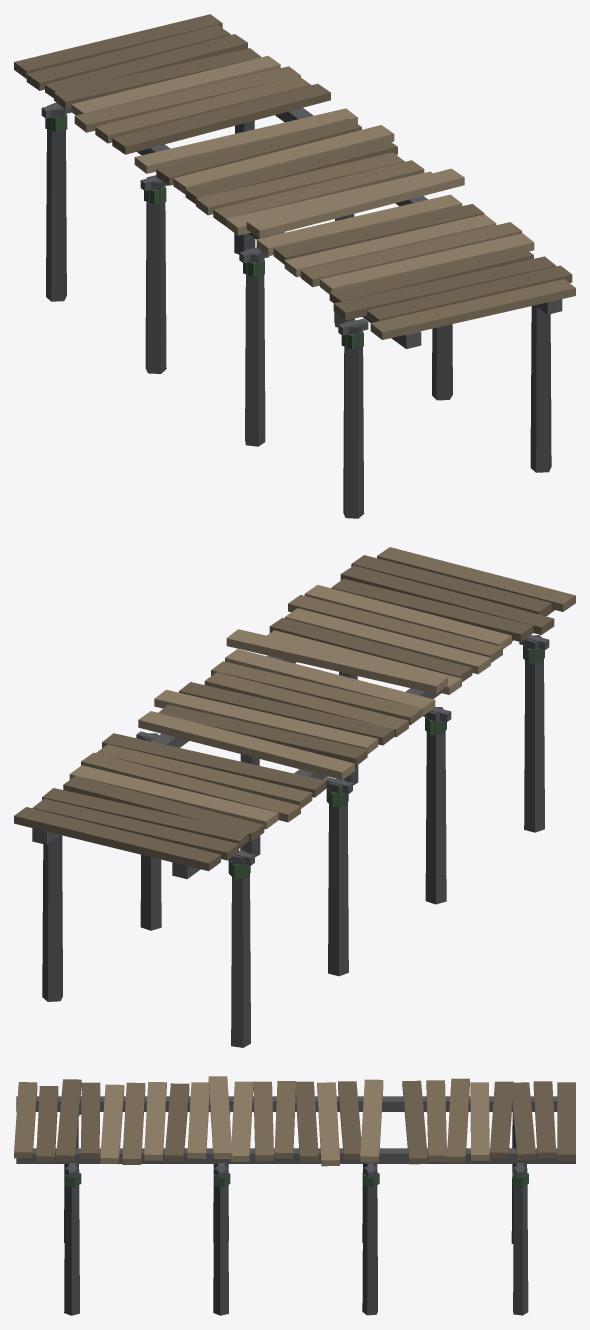
The model's file is boardwalk.glb.
3 renders of one model, top to bottom at view 1: azimuth 30°, elevation 25°; view 2: azimuth 150°, elevation 25°; view 3: azimuth 270°, elevation 25°, orthographic. The views are drawn at different scales.
Parts seen in each view (by area): view 1: driftwood_d42, driftwood_d25, silverfog_d60, driftwood_d35, silverfog_d55, moss_d35; view 2: driftwood_d42, driftwood_d25, silverfog_d60, driftwood_d35, silverfog_d55, moss_d35; view 3: driftwood_d42, driftwood_d25, driftwood_d35, silverfog_d60, silverfog_d55, moss_d35.
Boxes of the visible parts, left/top/right/bottom form: driftwood_d42: left=14, top=14, right=572, bottom=322; driftwood_d25: left=71, top=55, right=534, bottom=294; silverfog_d60: left=46, top=102, right=551, bottom=518; driftwood_d35: left=74, top=66, right=575, bottom=339; silverfog_d55: left=41, top=104, right=562, bottom=348; moss_d35: left=45, top=114, right=363, bottom=349; driftwood_d42: left=14, top=555, right=554, bottom=871; driftwood_d25: left=69, top=585, right=511, bottom=829; silverfog_d60: left=42, top=635, right=544, bottom=1047; driftwood_d35: left=81, top=547, right=575, bottom=822; silverfog_d55: left=32, top=609, right=554, bottom=879; moss_d35: left=228, top=645, right=544, bottom=878; driftwood_d42: left=36, top=1079, right=575, bottom=1164; driftwood_d25: left=100, top=1076, right=489, bottom=1166; driftwood_d35: left=14, top=1078, right=469, bottom=1164; silverfog_d60: left=64, top=1117, right=528, bottom=1315; silverfog_d55: left=16, top=1096, right=575, bottom=1178; moss_d35: left=65, top=1112, right=528, bottom=1187.
Bounding box in the file's own units: 2.07 × 1.96 × 6.03.
